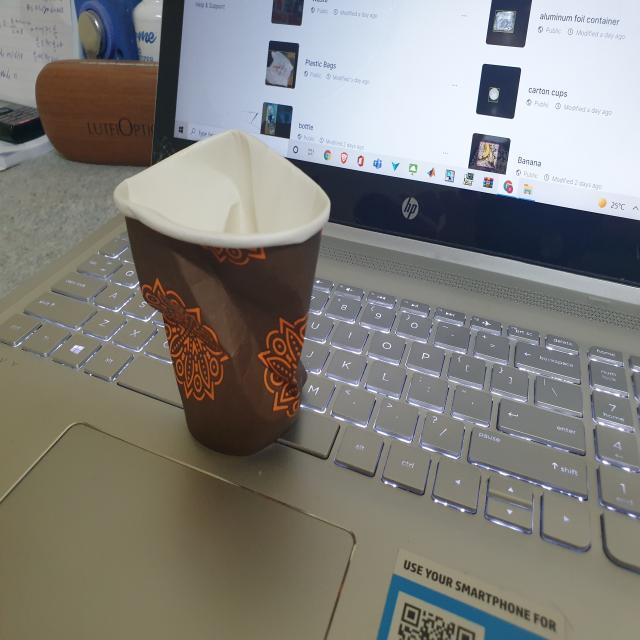cups: (102, 119, 342, 464)
